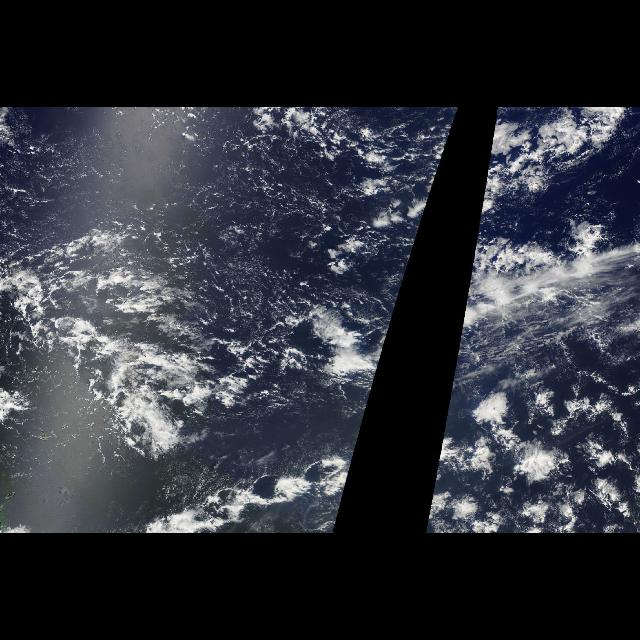Fish: (8, 231, 334, 425)
Flower: (422, 373, 640, 533)
Gravel: (178, 114, 352, 308)
Sugar: (84, 137, 318, 285)
